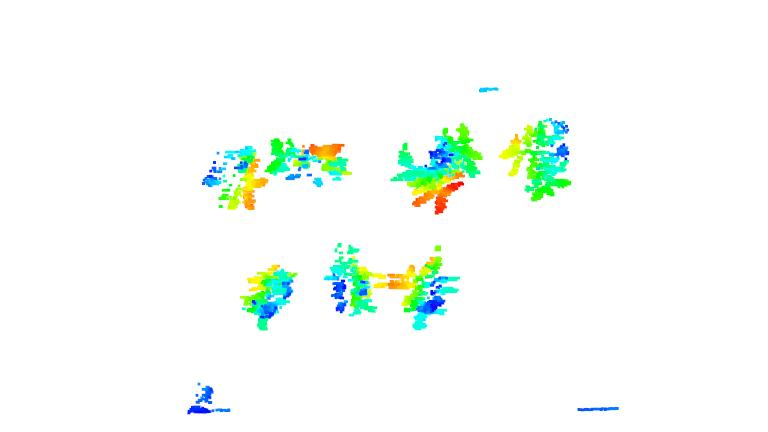chickpea: (387, 121, 486, 217), (497, 115, 577, 204), (385, 244, 461, 332), (323, 240, 385, 321), (200, 143, 267, 217), (263, 137, 356, 189), (236, 263, 300, 332)
